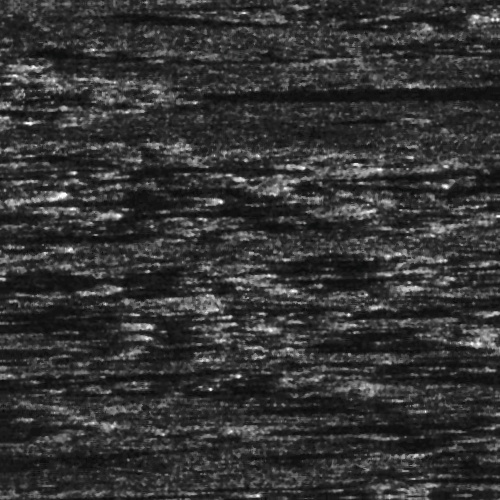object: (30, 203, 135, 216), (345, 451, 438, 458), (137, 228, 190, 235), (0, 185, 49, 192), (457, 312, 500, 317), (0, 268, 16, 275), (115, 317, 136, 320)
shadow: (0, 203, 82, 216), (252, 451, 391, 458), (321, 91, 500, 96), (43, 228, 164, 235), (362, 312, 483, 317), (0, 317, 125, 320), (470, 398, 500, 409), (465, 477, 500, 486), (477, 450, 500, 463), (445, 450, 500, 455), (462, 186, 500, 193)
